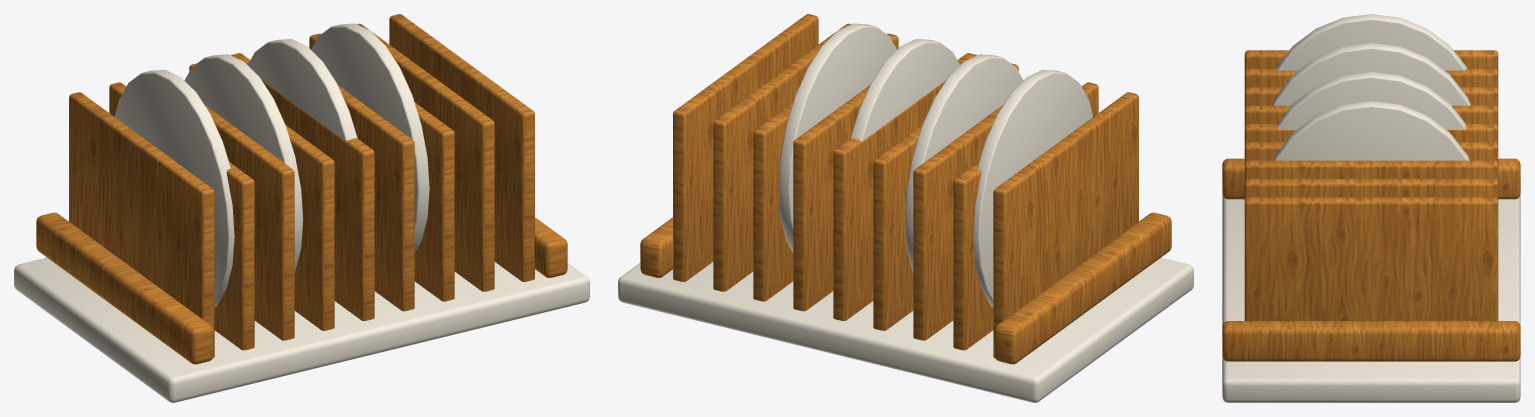
The model's file is dish-rack.glb.
The picture shows the model from 3 angles, left to right: view 1: azimuth 30°, elevation 25°; view 2: azimuth 150°, elevation 25°; view 3: azimuth 270°, elevation 25°; orthographic projection. The views are drawn at different scales.
Visible parts, largest first — view 1: dish-rack; view 2: dish-rack; view 3: dish-rack.
Part boxes in pixels (box(x1,y1,x2,y2)): dish-rack: box(14, 14, 589, 402); dish-rack: box(618, 14, 1193, 402); dish-rack: box(1222, 14, 1520, 402).
Size of the model in its own units: 0.46 by 0.26 by 0.3.
2 materials, 1 textured.
